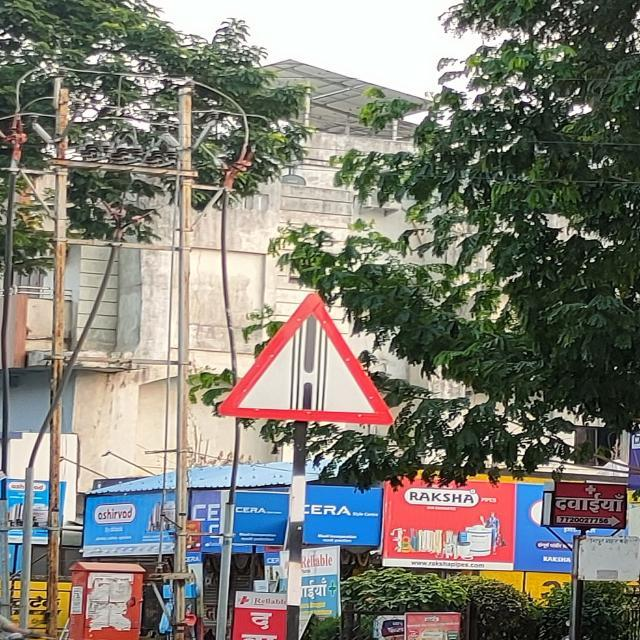gap in median: (207, 283, 401, 436)
